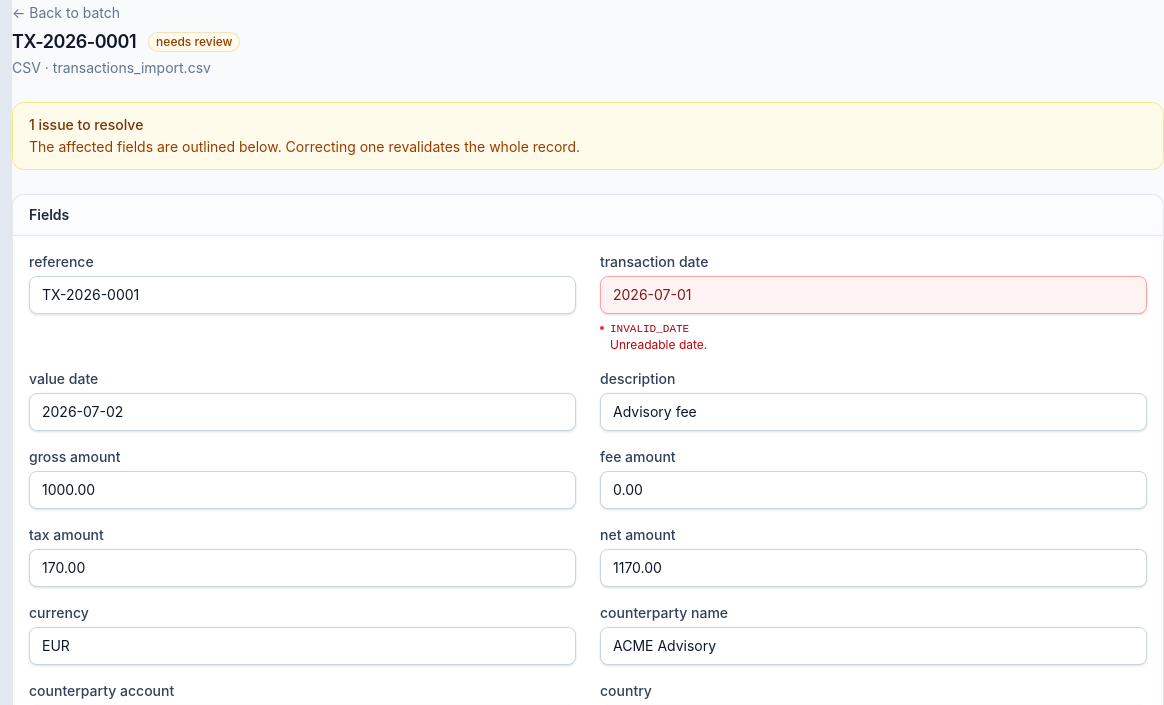
it: with unsaved edits on screen › allows it again once the draft is discarded
Replace the text in the field labelled "value date" with "2026-07-17" at (302, 412), box [29,393,576,431]
(page scrolled)
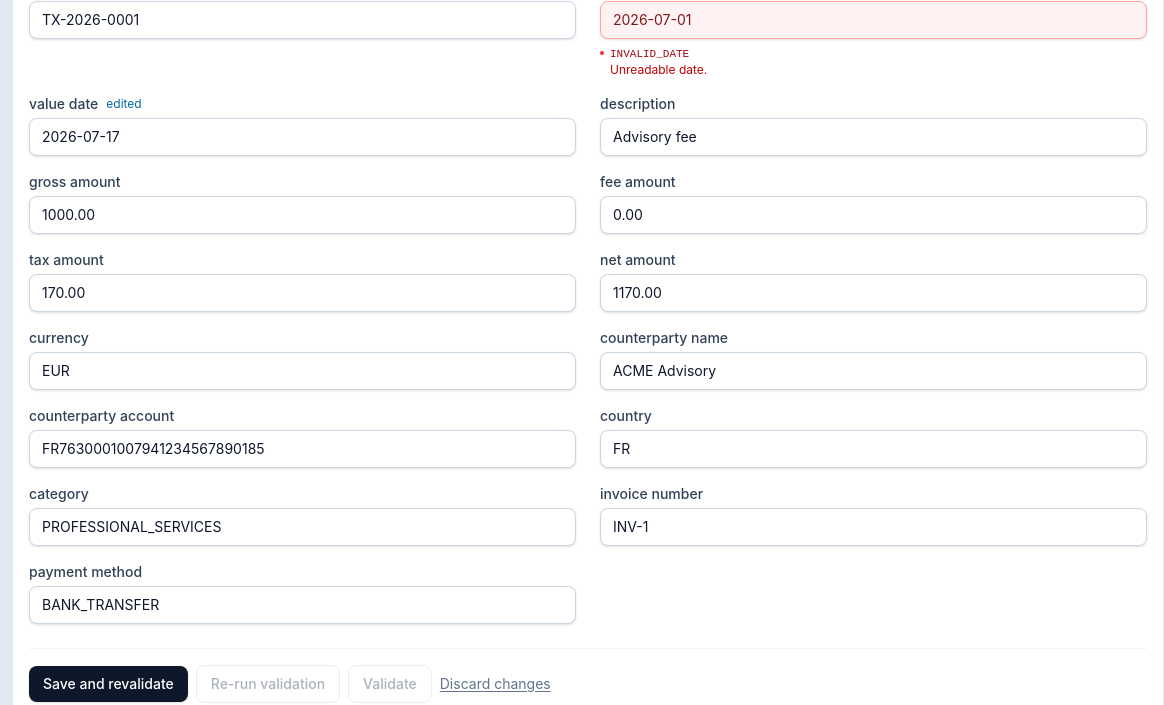
Click the button "Discard changes" at (495, 684), box [440,674,551,694]
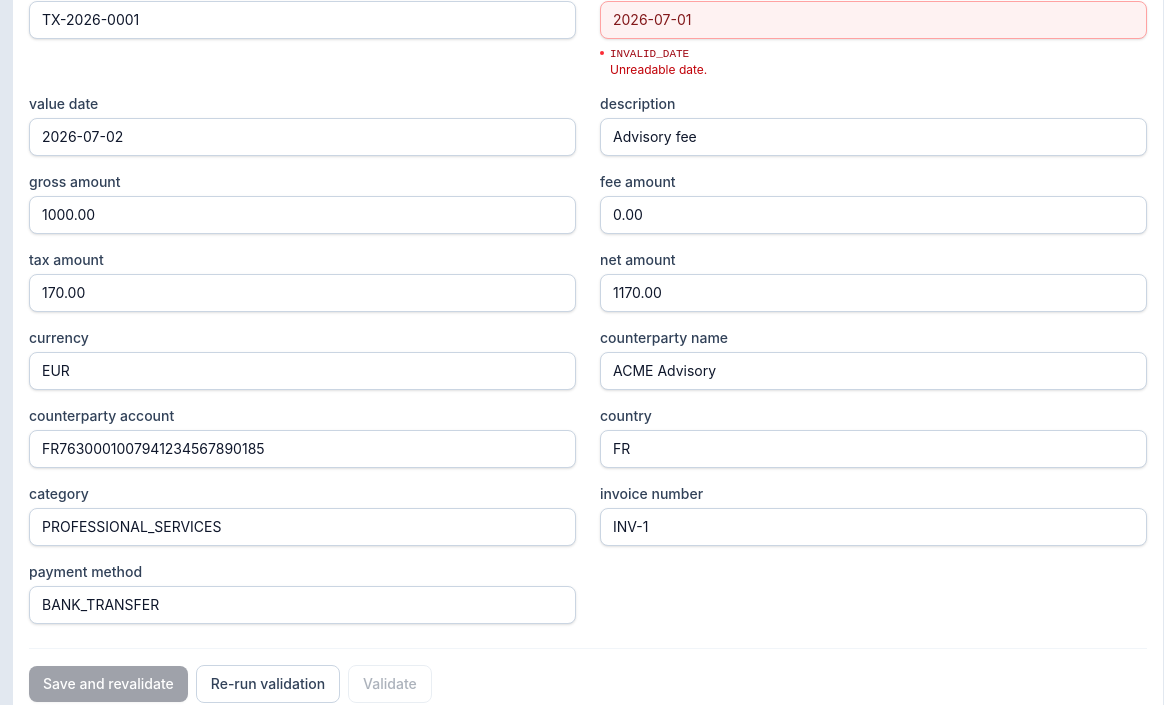
Expected: the button "Re-run validation" is enabled, [196,665,340,703]
